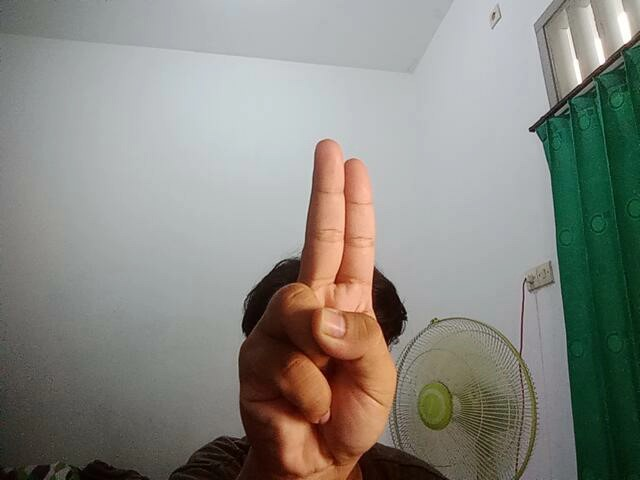U: (232, 128, 402, 476)
